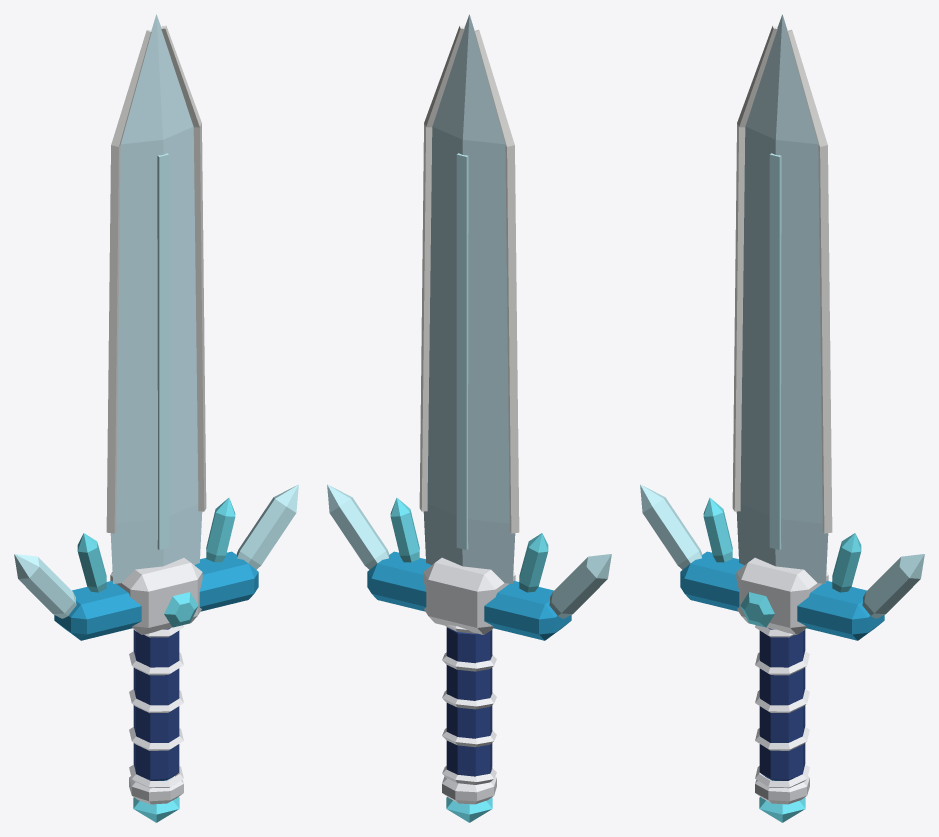
Rendered from FrostSword.fbx.
3 views of the same model, side by side, from view 1: azimuth 30°, elevation 25°; view 2: azimuth 150°, elevation 25°; view 3: azimuth 330°, elevation 25° (orthographic).
Parts seen in each view (by area): view 1: FrostSword; view 2: FrostSword; view 3: FrostSword.
Part boxes in pixels (x1,y1,x2,y2): FrostSword: (14,14,298,822); FrostSword: (327,14,611,822); FrostSword: (640,14,924,822).
Bounding box in the file's own units: 1.97 × 5.35 × 0.54.
Materials: 1 (1 with a texture image).
